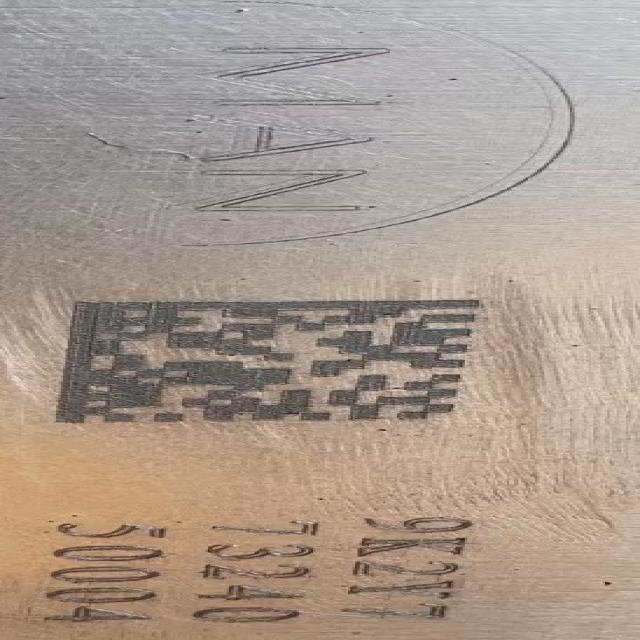dmc: (54, 300, 480, 423)
